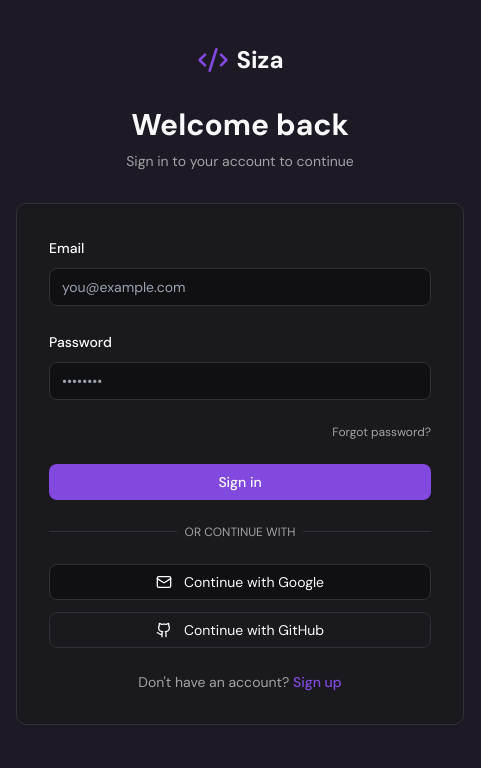
Test: SignInPage › should show error on sign in failure
Type "test@example.com" into the field labelled "Email".
click(240, 286); type("test@example.com")  # box [49, 268, 431, 306]
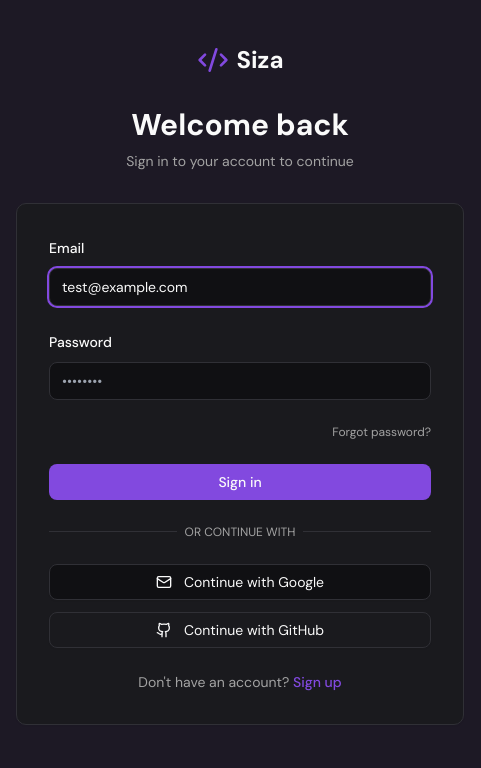
Type "wrong" into the password field labelled "Password".
click(240, 380); type("wrong")  # box [49, 362, 431, 400]
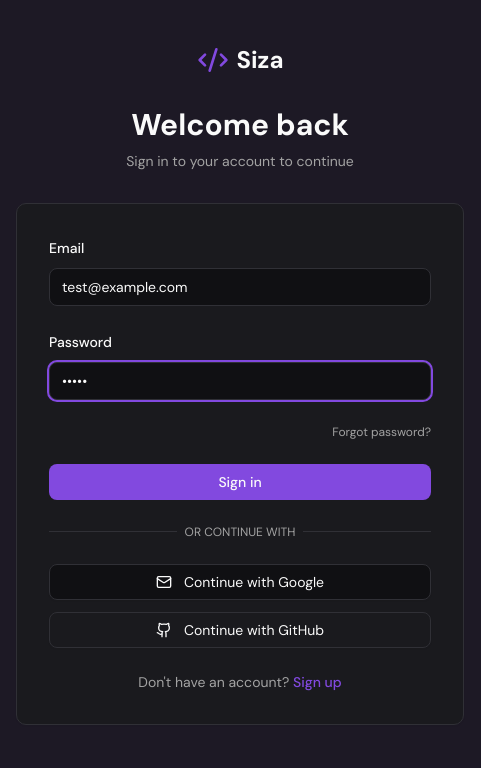
Click the button "Sign in".
click(240, 482)  # box [49, 464, 431, 500]
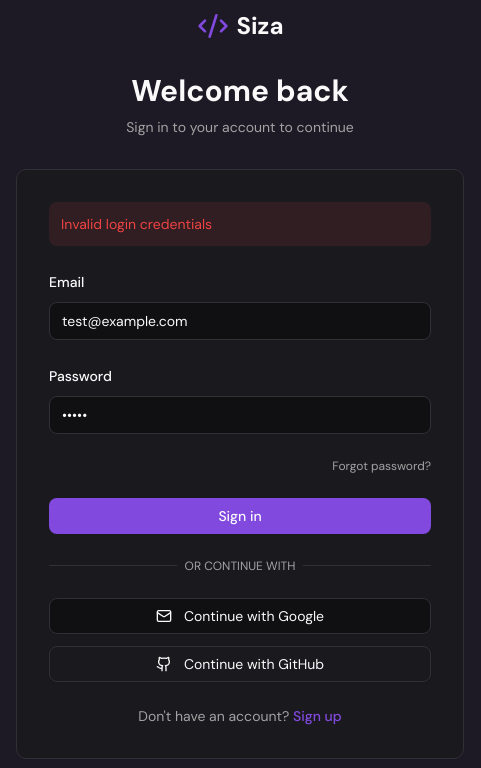
Expected: the text "Invalid login credentials" is shown, [49, 202, 431, 246]
